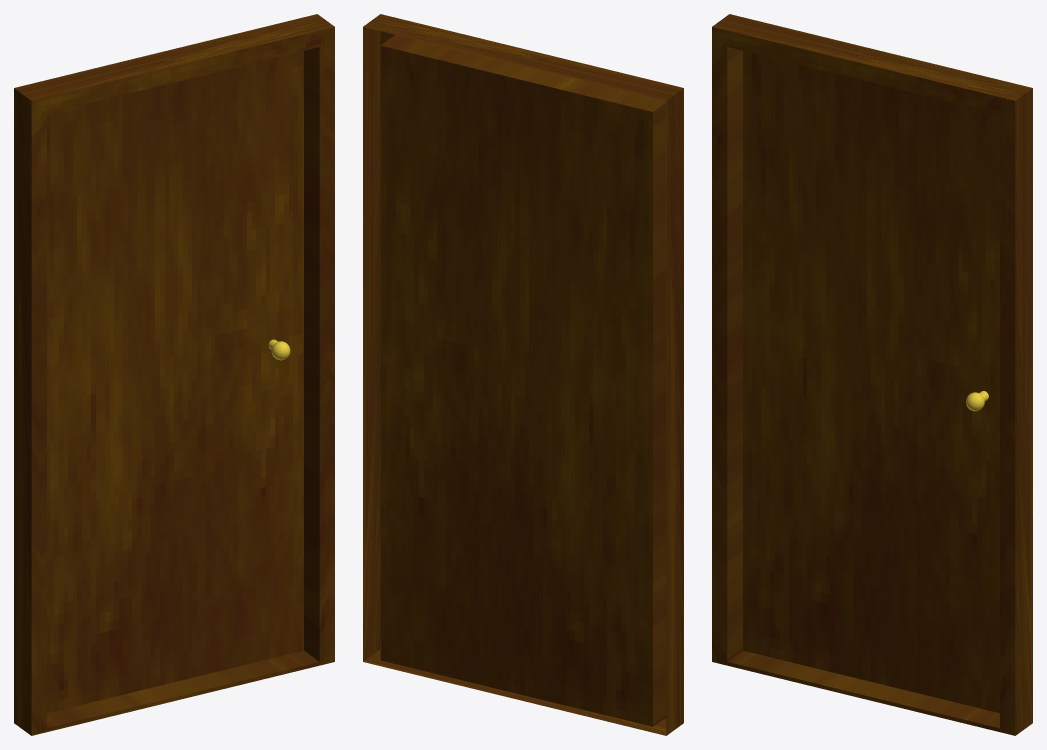
File: door.glb
The picture shows the model from 3 angles, left to right: view 1: azimuth 30°, elevation 25°; view 2: azimuth 150°, elevation 25°; view 3: azimuth 330°, elevation 25°; orthographic projection.
Parts seen in each view (by area): view 1: Cylinder; view 2: Cylinder; view 3: Cylinder.
Boxes of the visible parts, x1,y1,x2,y2 form: Cylinder: (14,14,334,735); Cylinder: (363,14,683,735); Cylinder: (712,14,1032,735).
Bounding box in the file's own units: 2 × 4 × 0.2.
2 materials, 1 textured.
